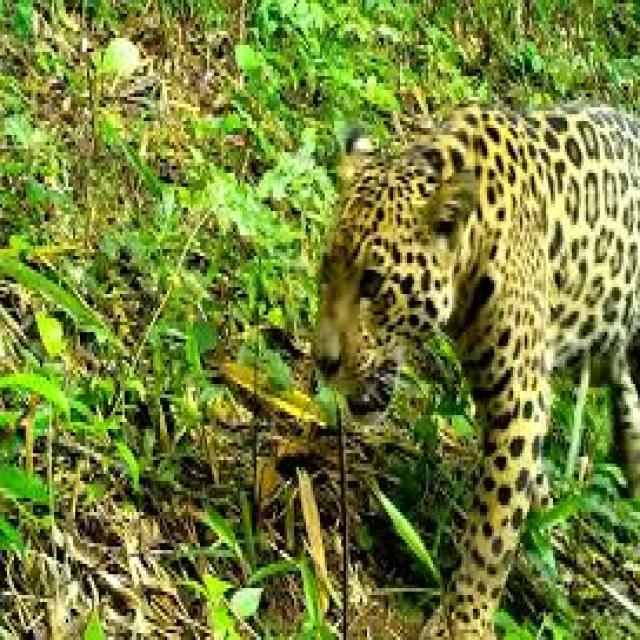Jaguar: (315, 117, 639, 640)
